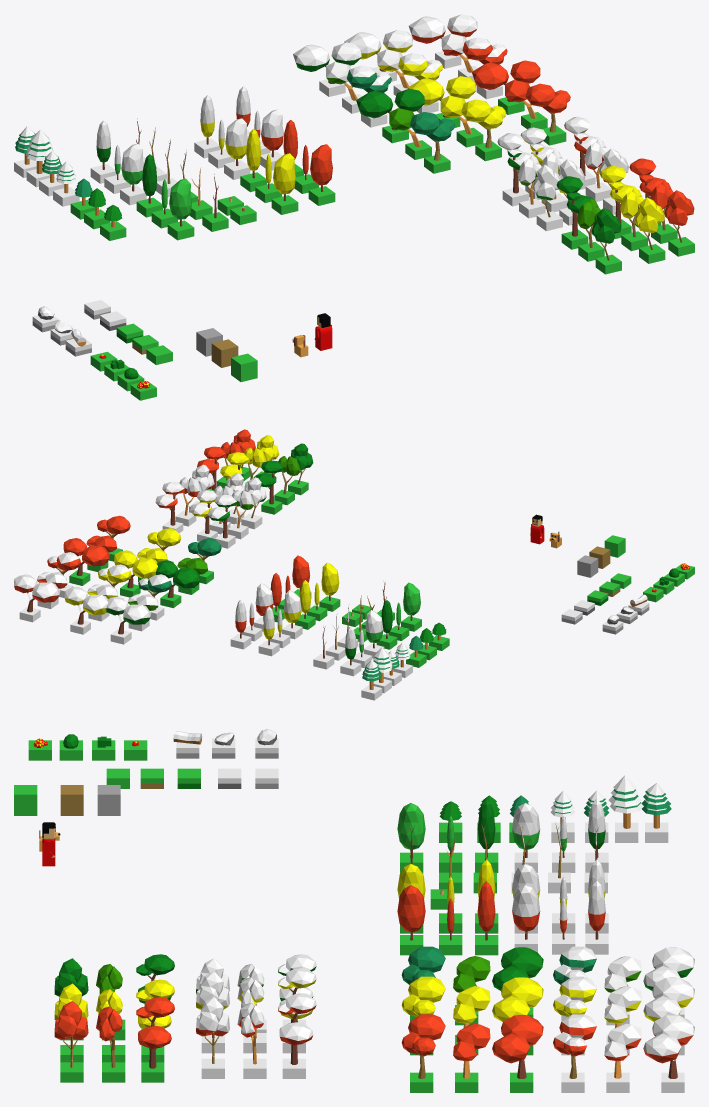
Rendered from TreeMeshes.fbx.
The picture shows the model from 3 angles, top to bottom: view 1: azimuth 30°, elevation 25°; view 2: azimuth 150°, elevation 25°; view 3: azimuth 270°, elevation 25°; orthographic projection. The views are drawn at different scales.
Parts seen in each view (by area): view 1: tree_columnar_7_g_s.013, tree_columnar_7_g_s.012, tree_columnar_7_g_s.025, tree_columnar_7_g_s.022, tree_columnar_7_g_s.014, tree_columnar_7_g_s.008, tree_columnar_7_g_s.020, tree_columnar_7_g_s.016, tree_columnar_7_g_s.019, tree_columnar_7_g_s.030, tree_columnar_7_g_s.026, tree_columnar_7_g_s.039 (+43 smaller); view 2: tree_columnar_7_g_s.025, tree_columnar_7_g_s.012, tree_columnar_7_g_s.019, tree_columnar_7_g_s.022, tree_columnar_7_g_s.013, tree_columnar_7_g_s.016, tree_columnar_7_g_s.035, tree_columnar_7_g_s.032, tree_columnar_7_g_s.047, tree_columnar_7_g_s.026, tree_columnar_7_g_s, tree_columnar_7_g_s.027 (+31 smaller); view 3: tree_columnar_7_g_s.025, tree_columnar_7_g_s.022, tree_columnar_7_g_s.023, tree_columnar_7_g_s.020, tree_columnar_7_g_s.041, tree_columnar_7_g_s.047, tree_columnar_7_g_s.045, tree_columnar_7_g_s.039, tree_columnar_7_g_s.024, tree_columnar_7_g_s.021, tree_columnar_7_g_s.019, tree_columnar_7_g_s.016 (+52 smaller).
Part boxes in pixels (bbox=[...]): tree_columnar_7_g_s.013: bbox=[356, 88, 424, 143]; tree_columnar_7_g_s.012: bbox=[293, 42, 361, 96]; tree_columnar_7_g_s.025: bbox=[408, 14, 477, 68]; tree_columnar_7_g_s.022: bbox=[472, 60, 540, 114]; tree_columnar_7_g_s.014: bbox=[461, 99, 506, 161]; tree_columnar_7_g_s.008: bbox=[410, 112, 454, 173]; tree_columnar_7_g_s.020: bbox=[525, 83, 570, 145]; tree_columnar_7_g_s.016: bbox=[407, 76, 475, 127]; tree_columnar_7_g_s.019: bbox=[344, 30, 412, 81]; tree_columnar_7_g_s.030: bbox=[591, 208, 621, 274]; tree_columnar_7_g_s.026: bbox=[271, 153, 298, 214]; tree_columnar_7_g_s.039: bbox=[664, 190, 694, 256]; tree_columnar_7_g_s.025: bbox=[14, 574, 60, 622]; tree_columnar_7_g_s.012: bbox=[106, 596, 151, 644]; tree_columnar_7_g_s.019: bbox=[64, 586, 108, 634]; tree_columnar_7_g_s.022: bbox=[63, 538, 109, 585]; tree_columnar_7_g_s.013: bbox=[156, 560, 200, 608]; tree_columnar_7_g_s.016: bbox=[114, 550, 157, 597]; tree_columnar_7_g_s.035: bbox=[208, 494, 237, 548]; tree_columnar_7_g_s.032: bbox=[255, 460, 283, 514]; tree_columnar_7_g_s.047: bbox=[155, 481, 184, 533]; tree_columnar_7_g_s.026: bbox=[319, 562, 340, 611]; tree_columnar_7_g_s: bbox=[401, 582, 421, 631]; tree_columnar_7_g_s.027: bbox=[281, 590, 302, 639]; tree_columnar_7_g_s.025: bbox=[643, 1015, 694, 1092]; tree_columnar_7_g_s.022: bbox=[492, 1015, 543, 1092]; tree_columnar_7_g_s.023: bbox=[553, 1014, 596, 1092]; tree_columnar_7_g_s.020: bbox=[401, 1014, 445, 1092]; tree_columnar_7_g_s.041: bbox=[136, 997, 174, 1082]; tree_columnar_7_g_s.047: bbox=[278, 993, 316, 1078]; tree_columnar_7_g_s.045: bbox=[196, 997, 229, 1078]; tree_columnar_7_g_s.039: bbox=[54, 1001, 88, 1082]; tree_columnar_7_g_s.024: bbox=[604, 1023, 641, 1092]; tree_columnar_7_g_s.021: bbox=[453, 1023, 490, 1092]; tree_columnar_7_g_s.019: bbox=[643, 977, 694, 1055]; tree_columnar_7_g_s.016: bbox=[492, 977, 543, 1055].
Size of the model in its own units: 7190 by 732 by 5852.
